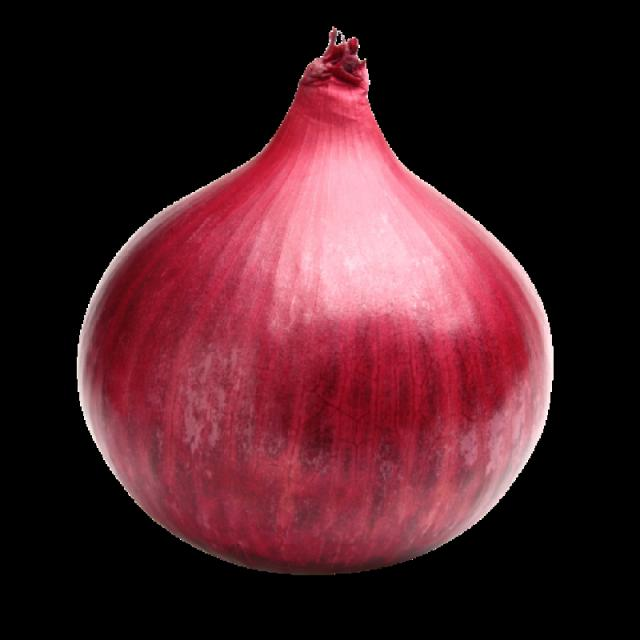onion: (31, 21, 585, 579)
